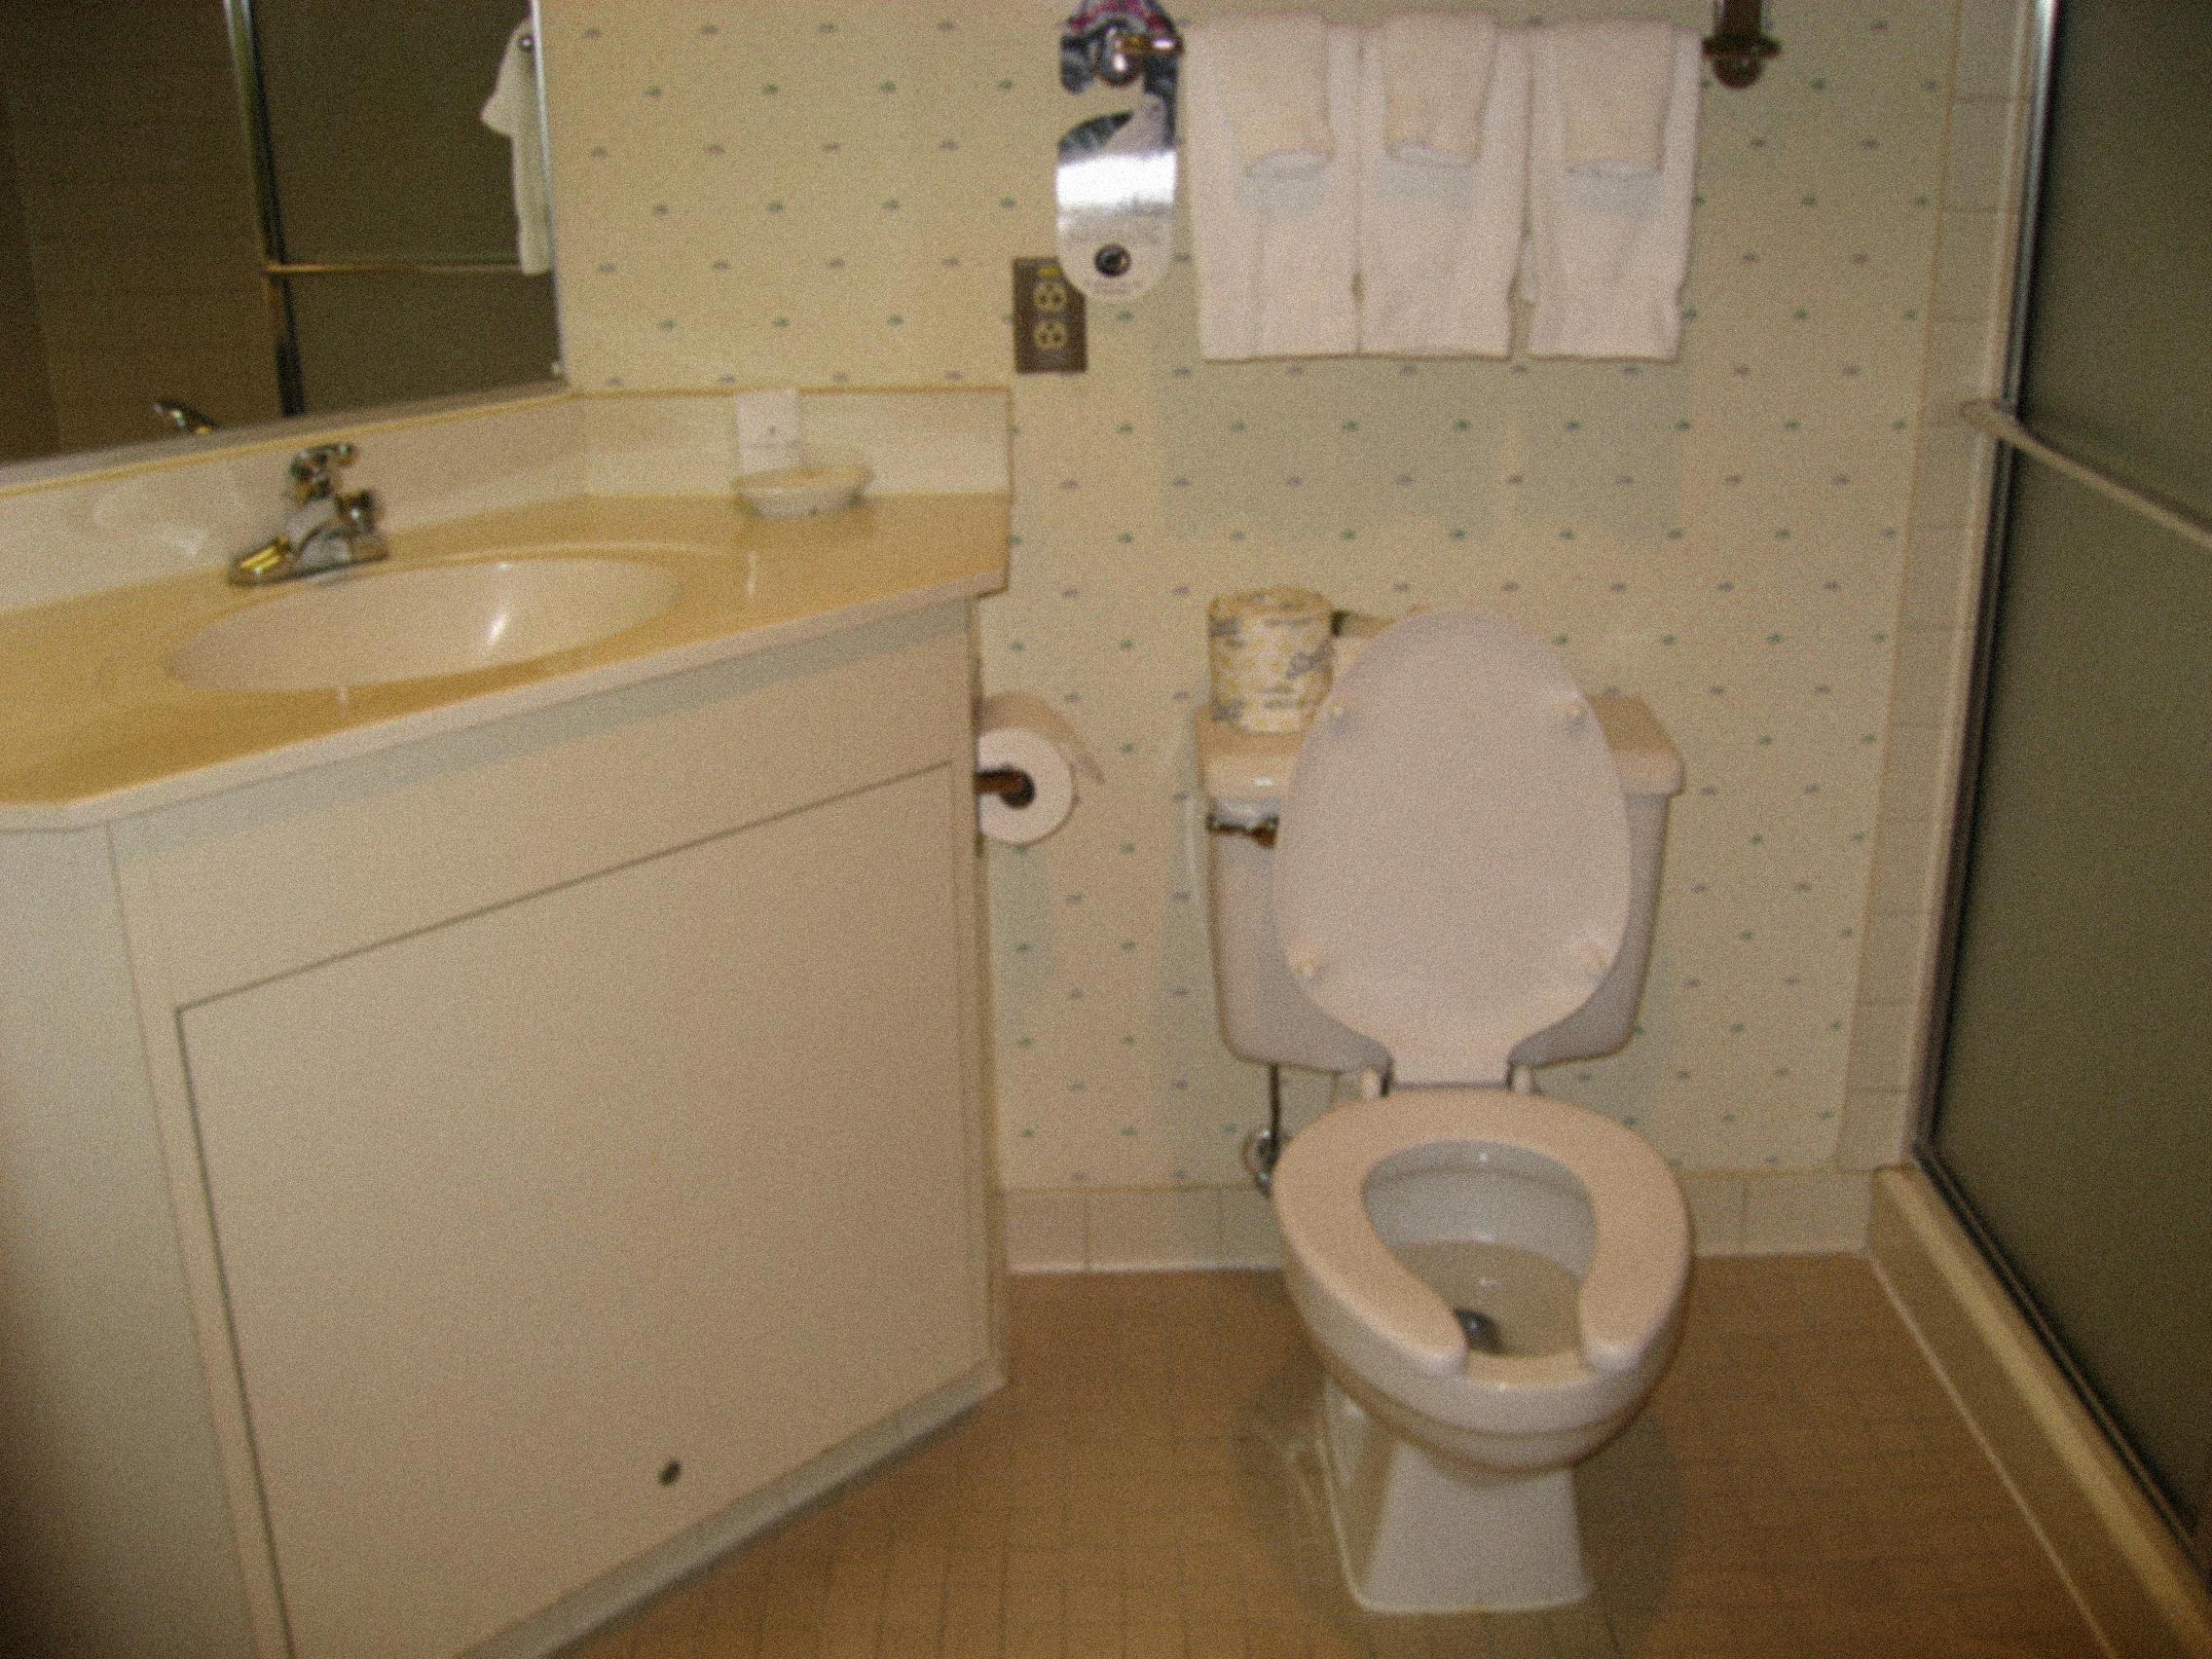Ducha: (1866, 15, 2202, 1658)
Lavamanos: (112, 438, 701, 702)
Sanitario: (1172, 592, 1759, 1599)
